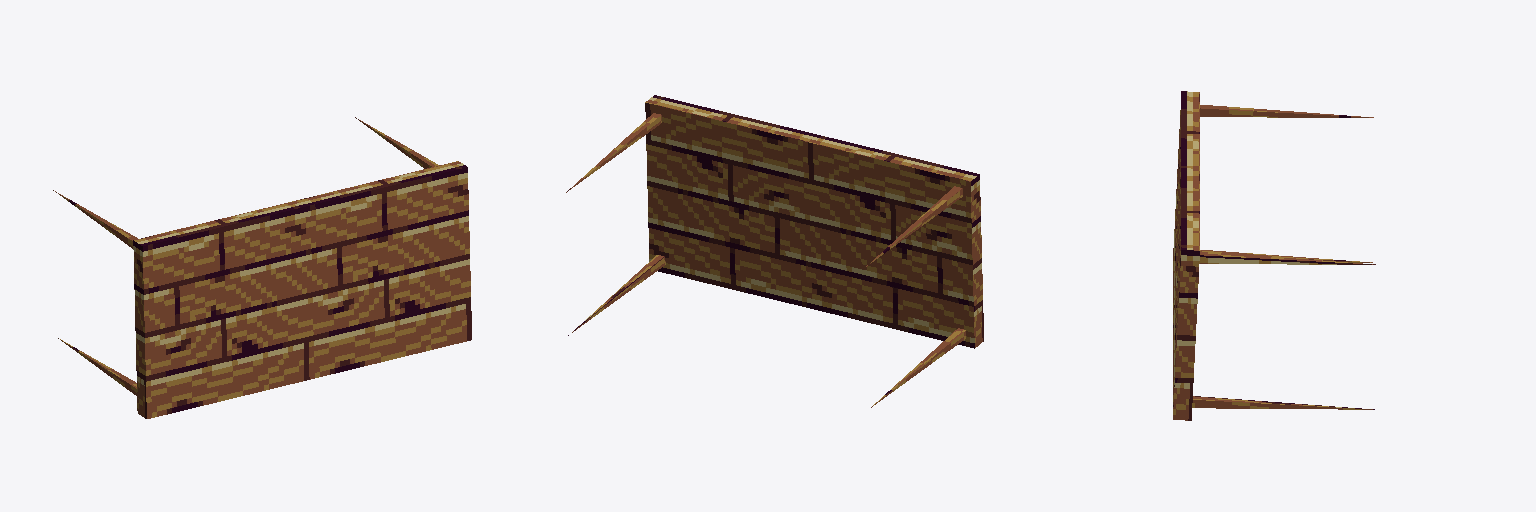
3 renders of one model, left to right at view 1: azimuth 30°, elevation 25°; view 2: azimuth 150°, elevation 25°; view 3: azimuth 270°, elevation 25°, orthographic.
Visible parts, largest first — view 1: Table; view 2: Table; view 3: Table.
Boxes of the visible parts, box(x1,y1,x2,y2) form: Table: box(53, 117, 471, 418); Table: box(566, 95, 983, 407); Table: box(1173, 91, 1375, 420).
Bounding box in the file's own units: 4 × 2.01 × 2.28.
Materials: 1 (1 with a texture image).